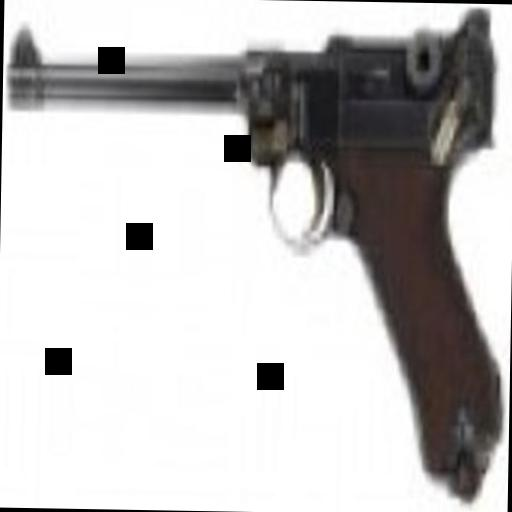Handgun: (3, 0, 508, 510)
